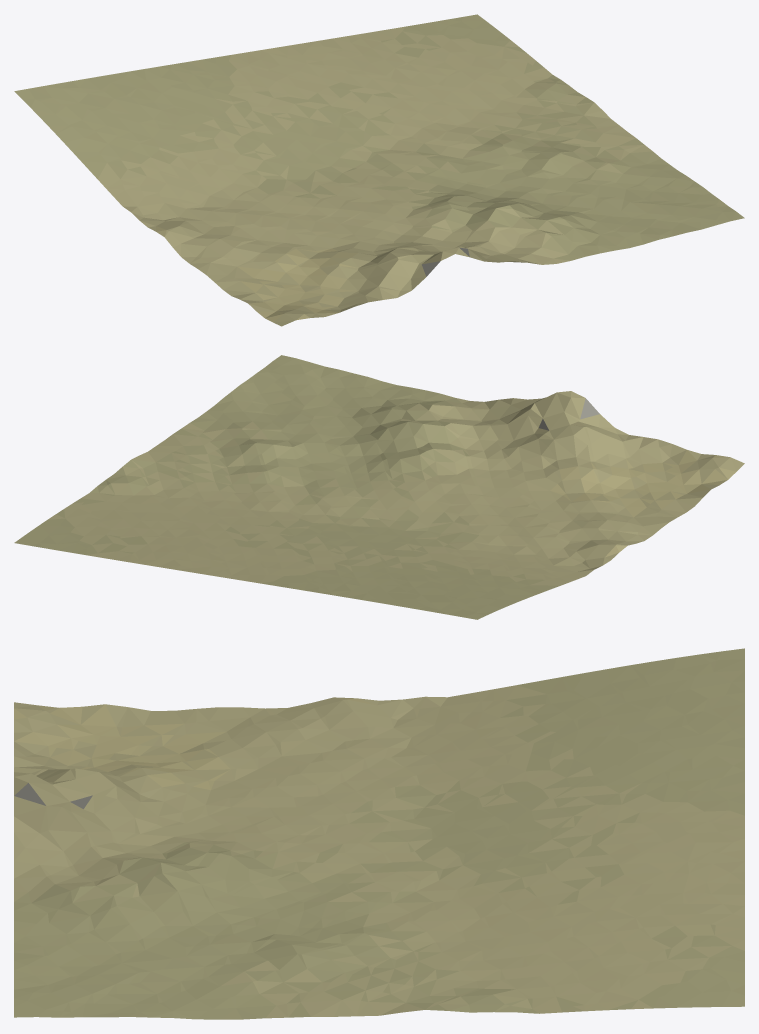
File: Ground_-1_-9.glb
The picture shows the model from 3 angles, top to bottom: view 1: azimuth 30°, elevation 25°; view 2: azimuth 150°, elevation 25°; view 3: azimuth 270°, elevation 25°; orthographic projection. The views are drawn at different scales.
Parts seen in each view (by area): view 1: Ground_-1_-9; view 2: Ground_-1_-9; view 3: Ground_-1_-9.
Boxes of the visible parts, bbox=[...] form: Ground_-1_-9: bbox=[14, 14, 744, 326]; Ground_-1_-9: bbox=[14, 355, 744, 619]; Ground_-1_-9: bbox=[14, 648, 744, 1019].
Bounding box in the file's own units: 768 × 75.04 × 768.
